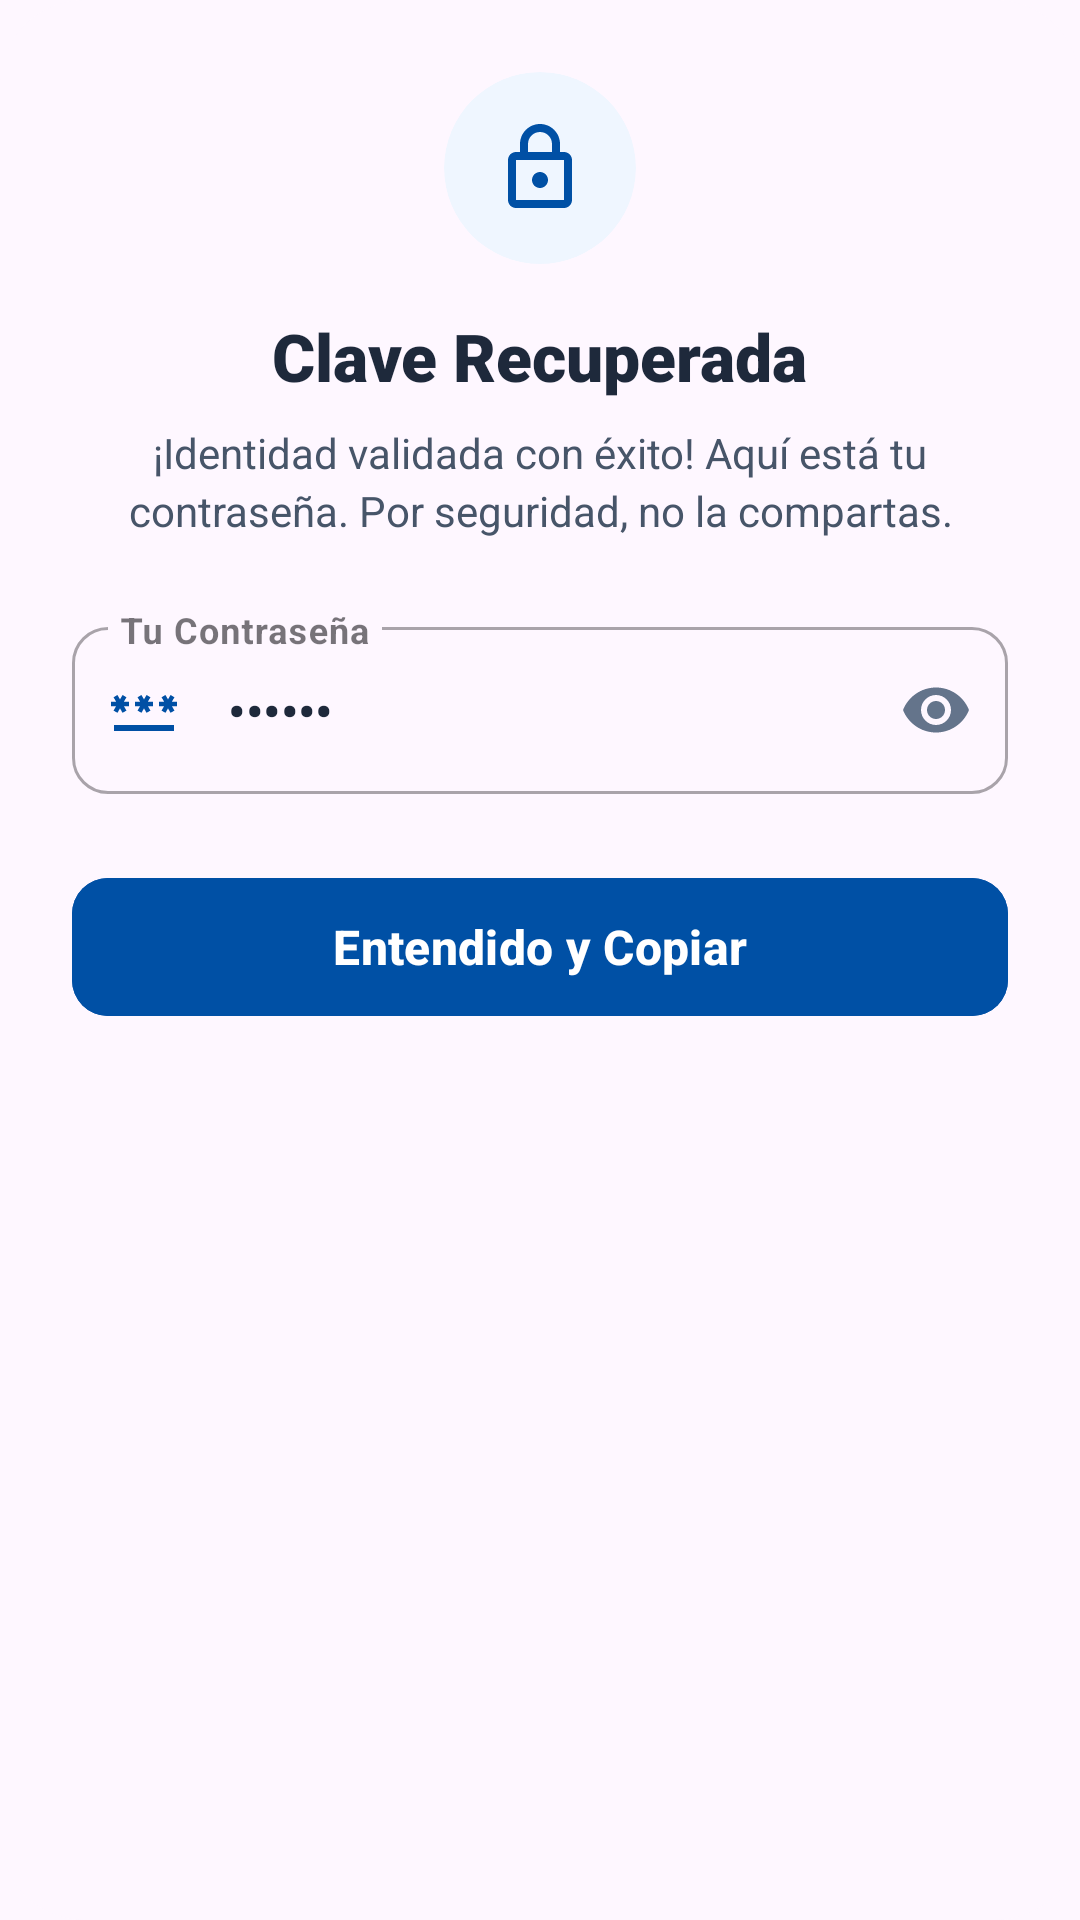

Icon click points for this 1080 x 1920 phone screenshot, format [x,y]:
lock: [540,166]
